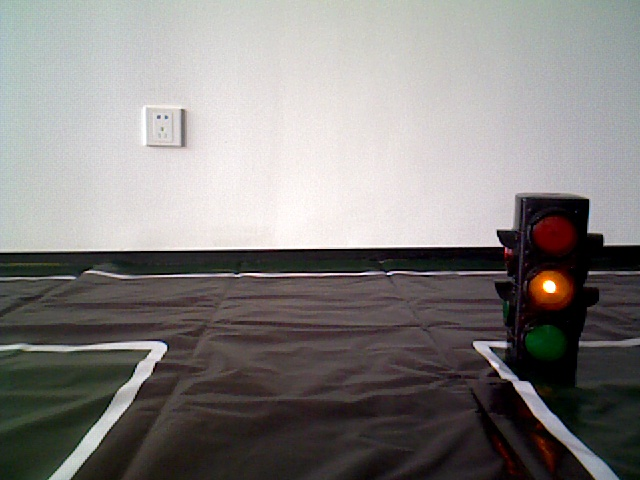yellow: (514, 194, 595, 375)
